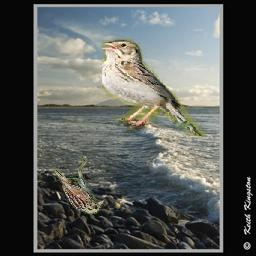Sparrow: (103, 40, 208, 139), (54, 156, 105, 214)
